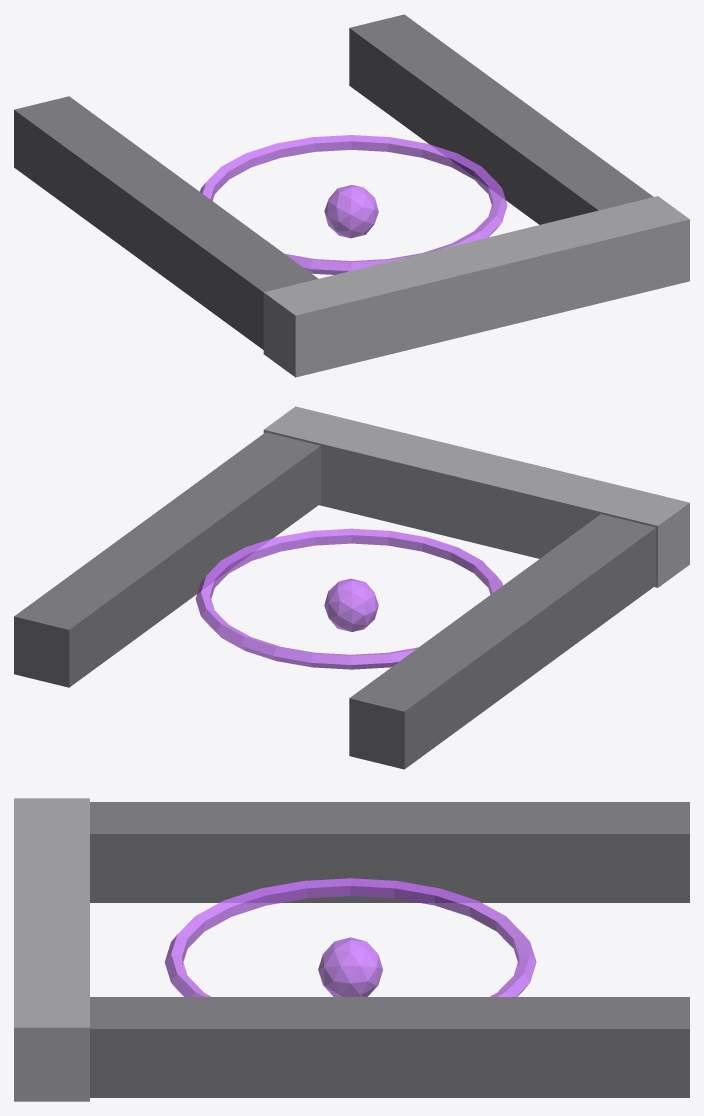
File: data_corruption_arch.glb
The picture shows the model from 3 angles, top to bottom: view 1: azimuth 30°, elevation 25°; view 2: azimuth 150°, elevation 25°; view 3: azimuth 270°, elevation 25°; orthographic projection. The views are drawn at different scales.
Parts seen in each view (by area): view 1: lintel, pillar_left, pillar_right, energy_ring, core_light; view 2: pillar_left, pillar_right, lintel, energy_ring, core_light; view 3: pillar_left, pillar_right, lintel, energy_ring, core_light.
Part boxes in pixels (x1,y1,x2,y2): lintel: (263, 196, 689, 377); pillar_left: (14, 96, 318, 349); pillar_right: (349, 14, 653, 224); energy_ring: (200, 135, 507, 274); core_light: (324, 185, 378, 238); pillar_left: (349, 514, 655, 769); pillar_right: (14, 432, 320, 687); lintel: (263, 406, 689, 587); energy_ring: (195, 528, 503, 669); core_light: (324, 578, 378, 631); pillar_left: (90, 802, 689, 902); pillar_right: (90, 997, 689, 1097); lintel: (14, 798, 89, 1101); energy_ring: (164, 878, 536, 996); core_light: (318, 937, 382, 996).
Bounding box in the file's own units: 2 × 0.35 × 2.49.
